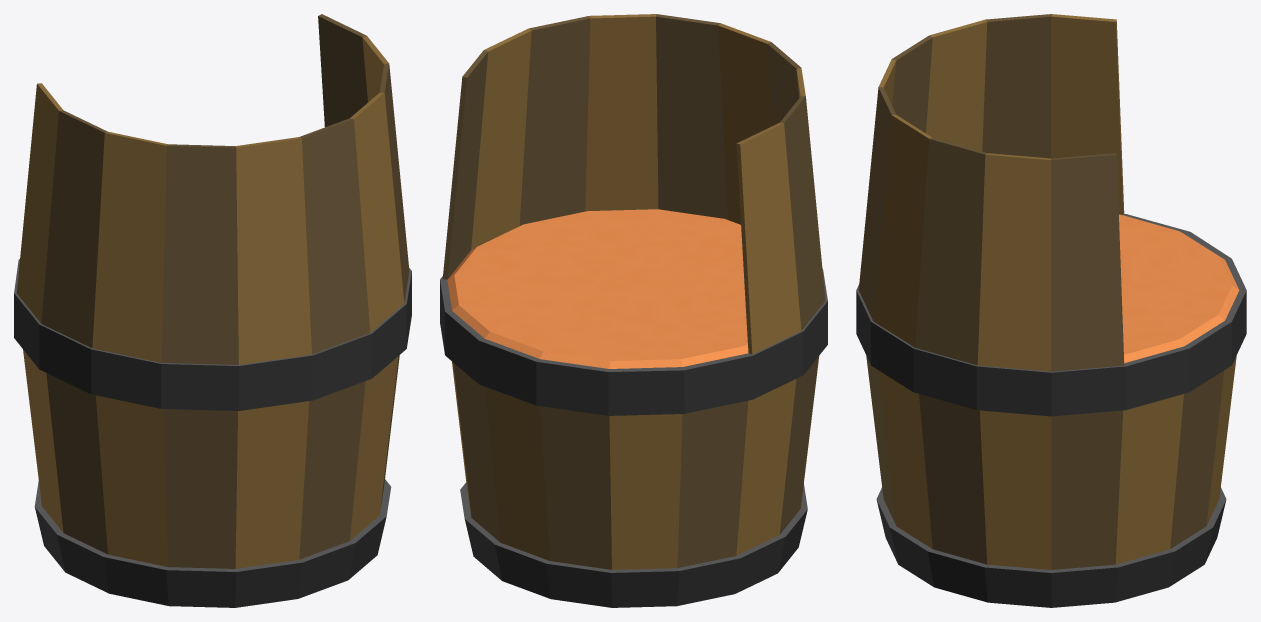
Rendered from sm_chair_4.fbx.
The picture shows the model from 3 angles, left to right: view 1: azimuth 30°, elevation 25°; view 2: azimuth 150°, elevation 25°; view 3: azimuth 270°, elevation 25°; orthographic projection. The views are drawn at different scales.
Parts seen in each view (by area): view 1: sm_chair_4; view 2: sm_chair_4; view 3: sm_chair_4.
Boxes of the visible parts, x1=… form: sm_chair_4: x1=14, y1=14, x2=411, y2=607; sm_chair_4: x1=440, y1=14, x2=827, y2=607; sm_chair_4: x1=856, y1=14, x2=1246, y2=607.
Size of the model in its own units: 36.78 by 46.85 by 36.78.
